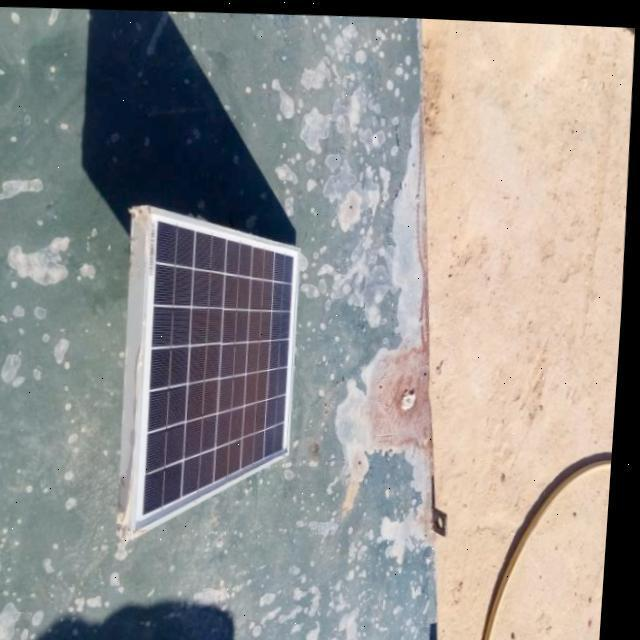Normal Solar Panel: (133, 201, 310, 542)
